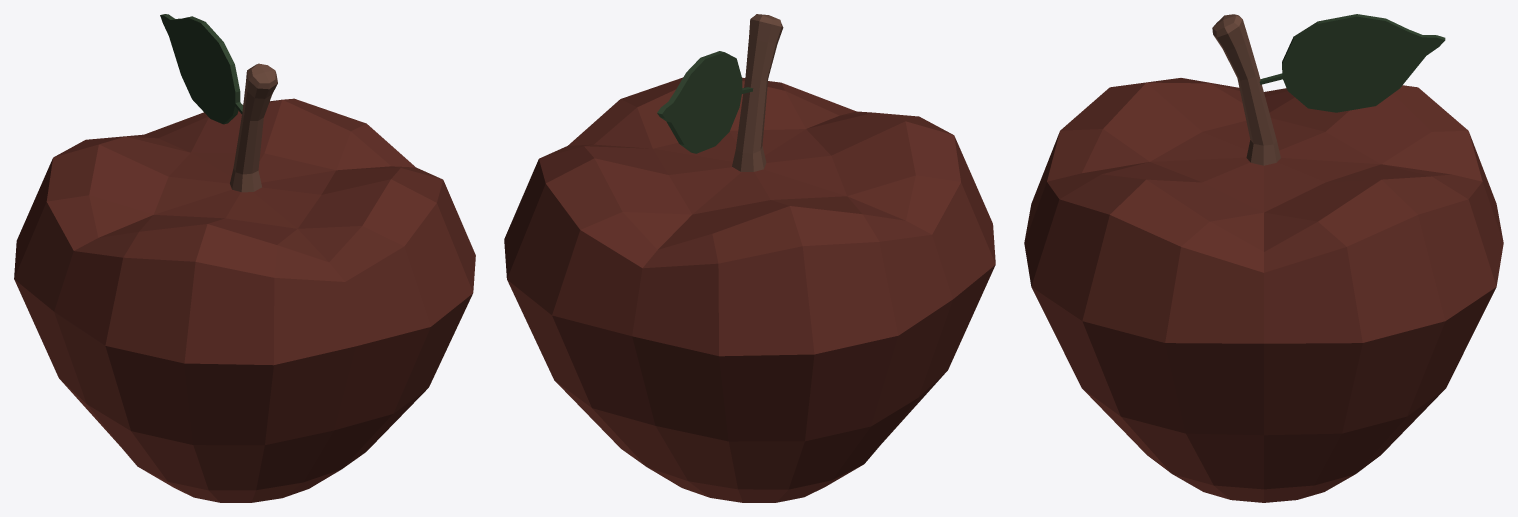
Rendered from Apple_Crop.glb.
3 renders of one model, left to right at view 1: azimuth 30°, elevation 25°; view 2: azimuth 150°, elevation 25°; view 3: azimuth 270°, elevation 25°, orthographic. The views are drawn at different scales.
Visible parts, largest first — view 1: Apple_Crop; view 2: Apple_Crop; view 3: Apple_Crop.
Boxes of the visible parts, x1,y1,x2,y2 form: Apple_Crop: [14, 14, 475, 502]; Apple_Crop: [504, 14, 995, 502]; Apple_Crop: [1024, 14, 1503, 502].
Size of the model in its own units: 0.1575 by 0.168 by 0.1583.
